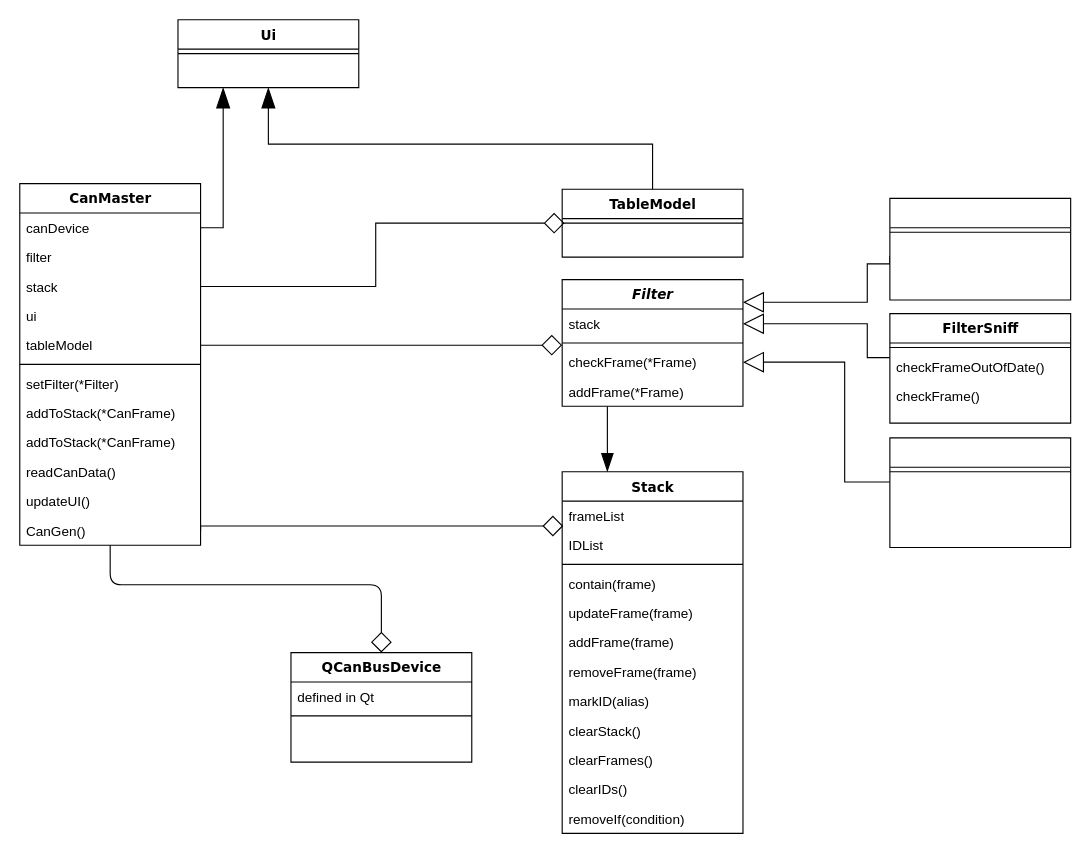
This 1090x857 diagram has some shape labels left out. The shapes that lost their labels are listed below. From the top down, each one's centre as x and y in pixels, then its label:
At point (980, 248): "FilterID".
At point (980, 492): "Filter Dump".
